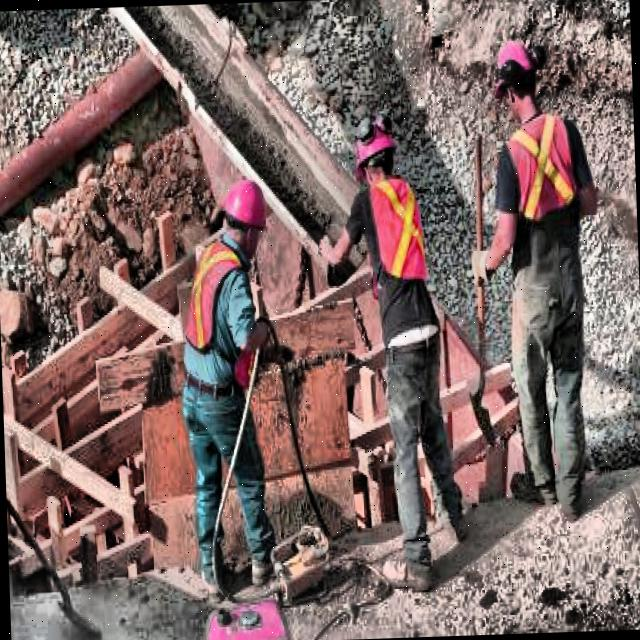helmet: (488, 32, 540, 118), (211, 175, 267, 249), (351, 110, 402, 191)
